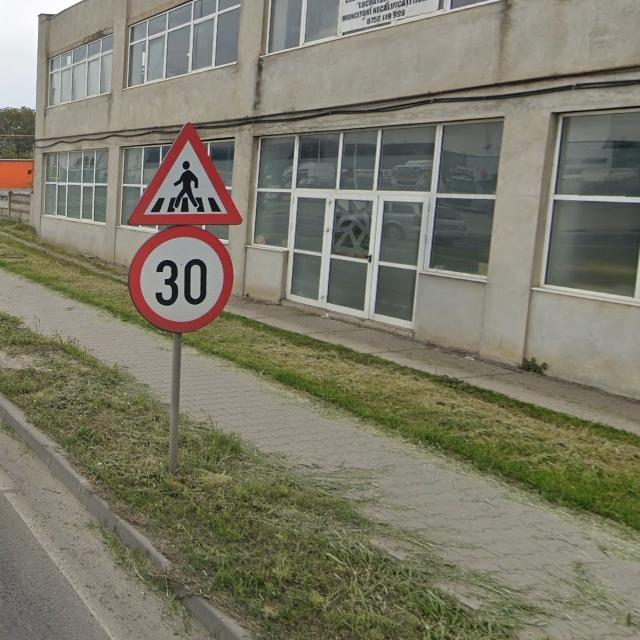forb_speed_over_30: (130, 223, 233, 337)
warn_crosswalk: (129, 122, 240, 228)
